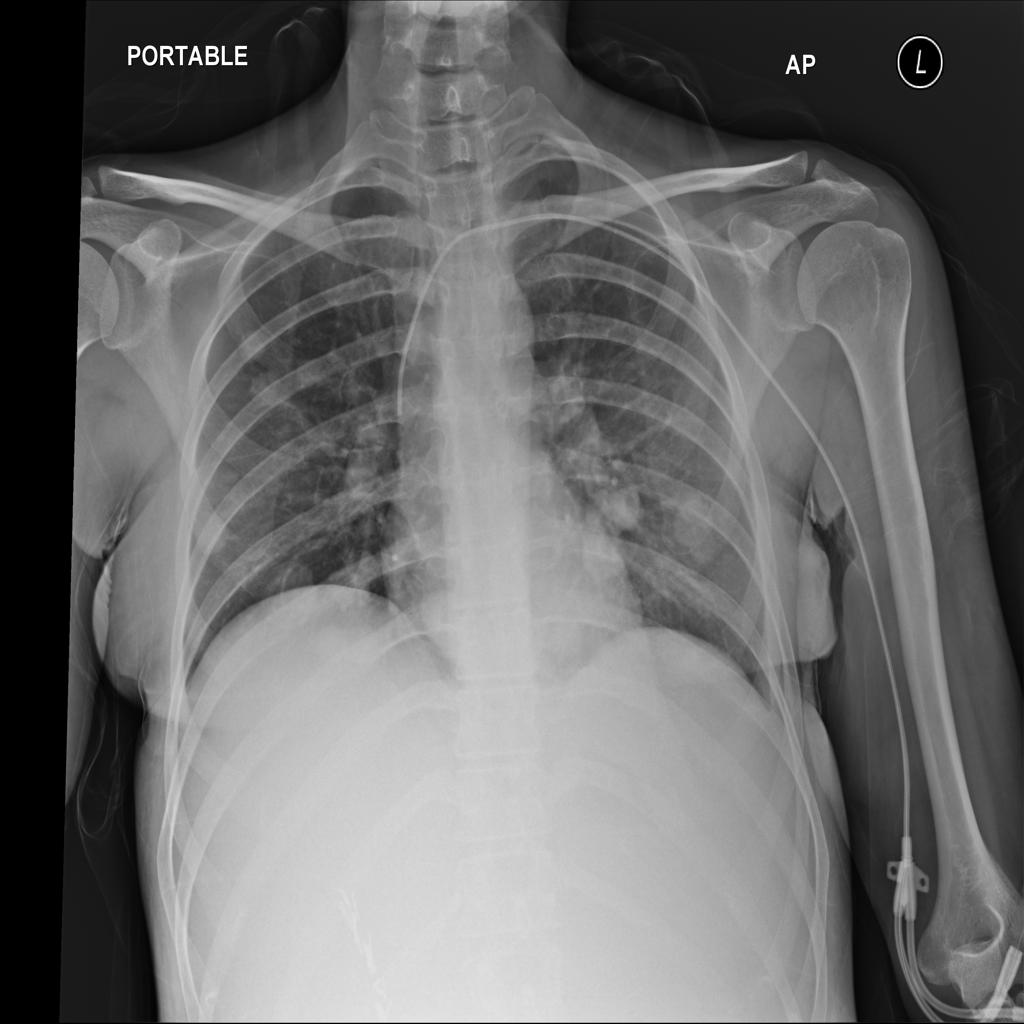nodule: (302, 606, 386, 676), (244, 549, 323, 621), (321, 544, 390, 618), (534, 595, 601, 670), (661, 483, 724, 562), (571, 517, 635, 590), (590, 468, 648, 544), (239, 361, 291, 412), (189, 511, 238, 562), (209, 455, 248, 492)
